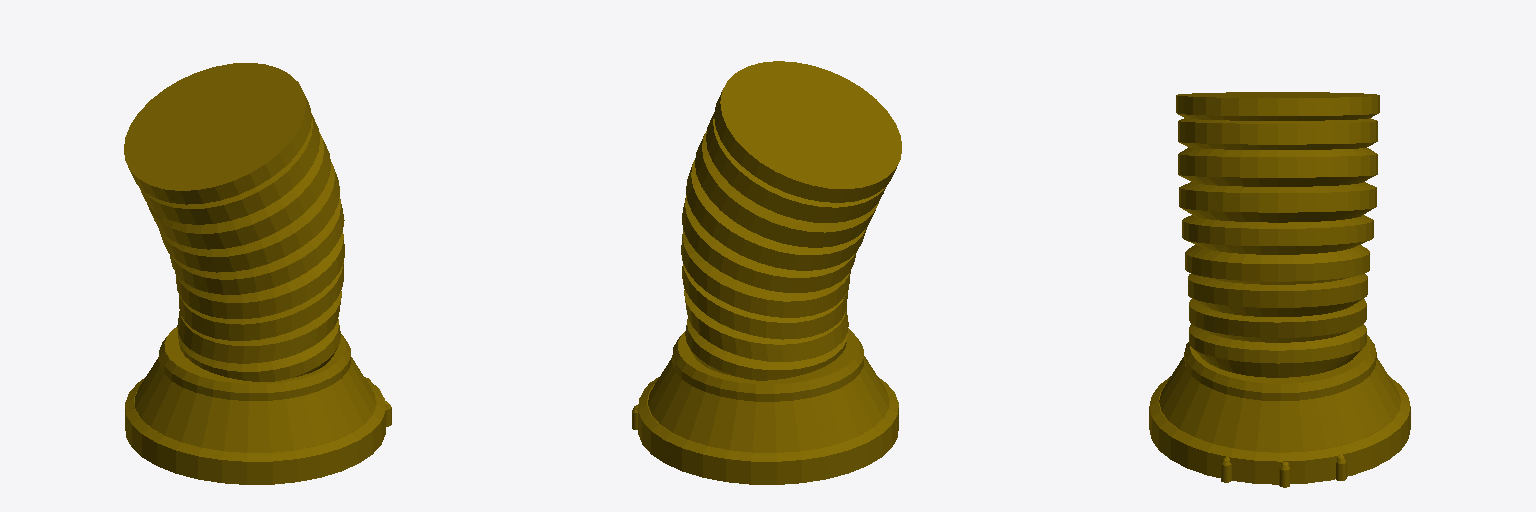
Rendered from goddard_pata04.obj.
3 renders of one model, left to right at view 1: azimuth 30°, elevation 25°; view 2: azimuth 150°, elevation 25°; view 3: azimuth 270°, elevation 25°, orthographic.
Visible parts, largest first — view 1: goddard_pata04; view 2: goddard_pata04; view 3: goddard_pata04.
Boxes of the visible parts, <box> form: goddard_pata04: <box>124,63,391,484</box>; goddard_pata04: <box>632,61,901,484</box>; goddard_pata04: <box>1149,92,1410,487</box>.
Bounding box in the file's own units: 1.07 × 1.51 × 1.03.